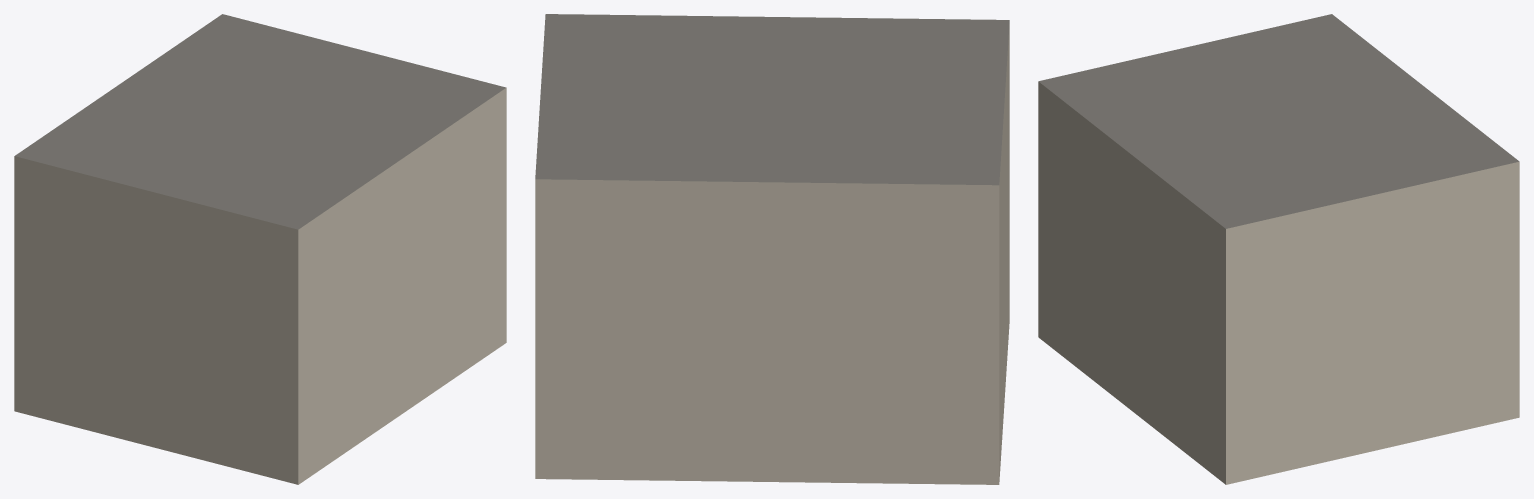
3 renders of one model, left to right at view 1: azimuth 30°, elevation 25°; view 2: azimuth 150°, elevation 25°; view 3: azimuth 270°, elevation 25°, orthographic. The views are drawn at different scales.
Parts seen in each view (by area): view 1: HP-w369317459; view 2: HP-w369317459; view 3: HP-w369317459.
Part boxes in pixels (left/top/right/bottom): HP-w369317459: left=14, top=14, right=506, bottom=484; HP-w369317459: left=535, top=14, right=1009, bottom=484; HP-w369317459: left=1038, top=14, right=1519, bottom=484.
Bounding box in the file's own units: 32.42 × 18 × 30.68.
